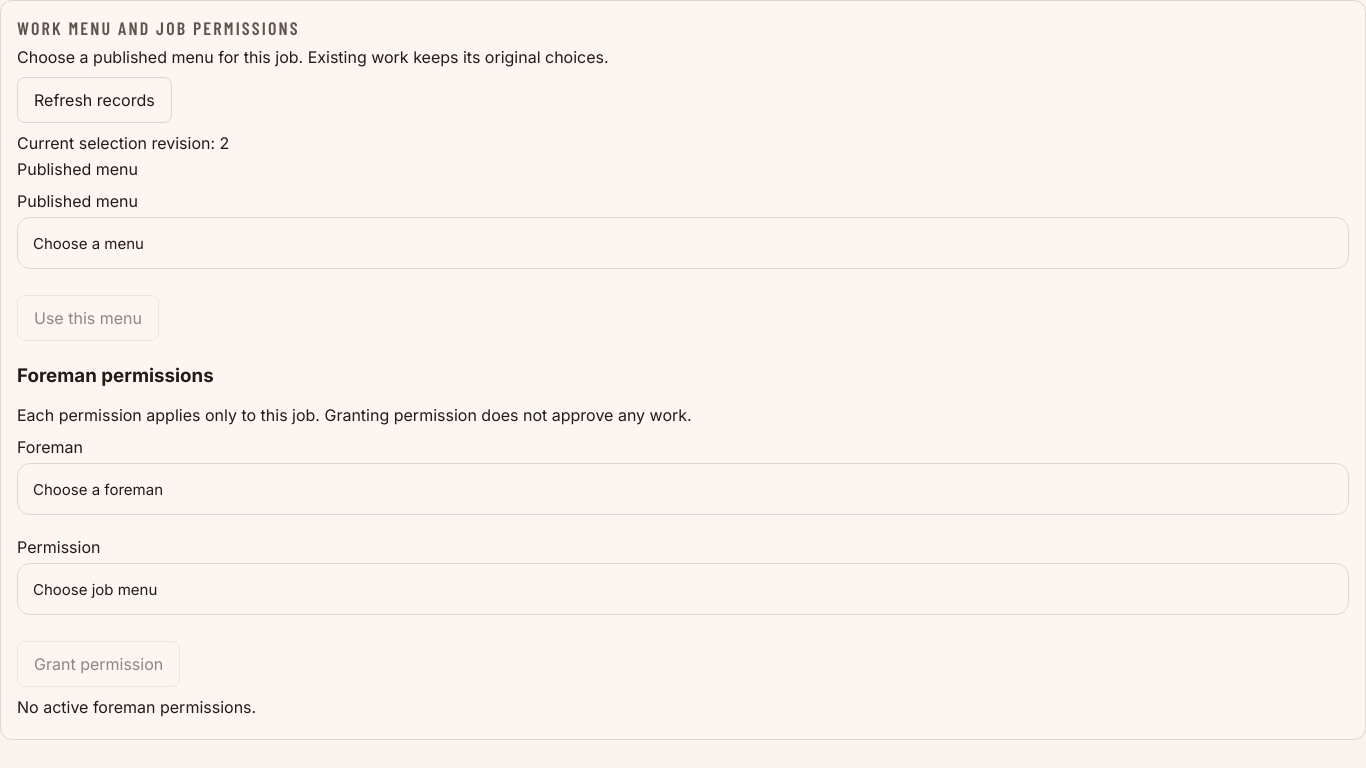
Scenario: exact-job configuration panel › blocks a remounted panel while the original request is in flight and accepts its late valid receipt
This screenshot has width=1366, height=768.
Select "Published menu · v1" in the dropdown labelled "Published menu" at (683, 243), box [17,217,1349,269]
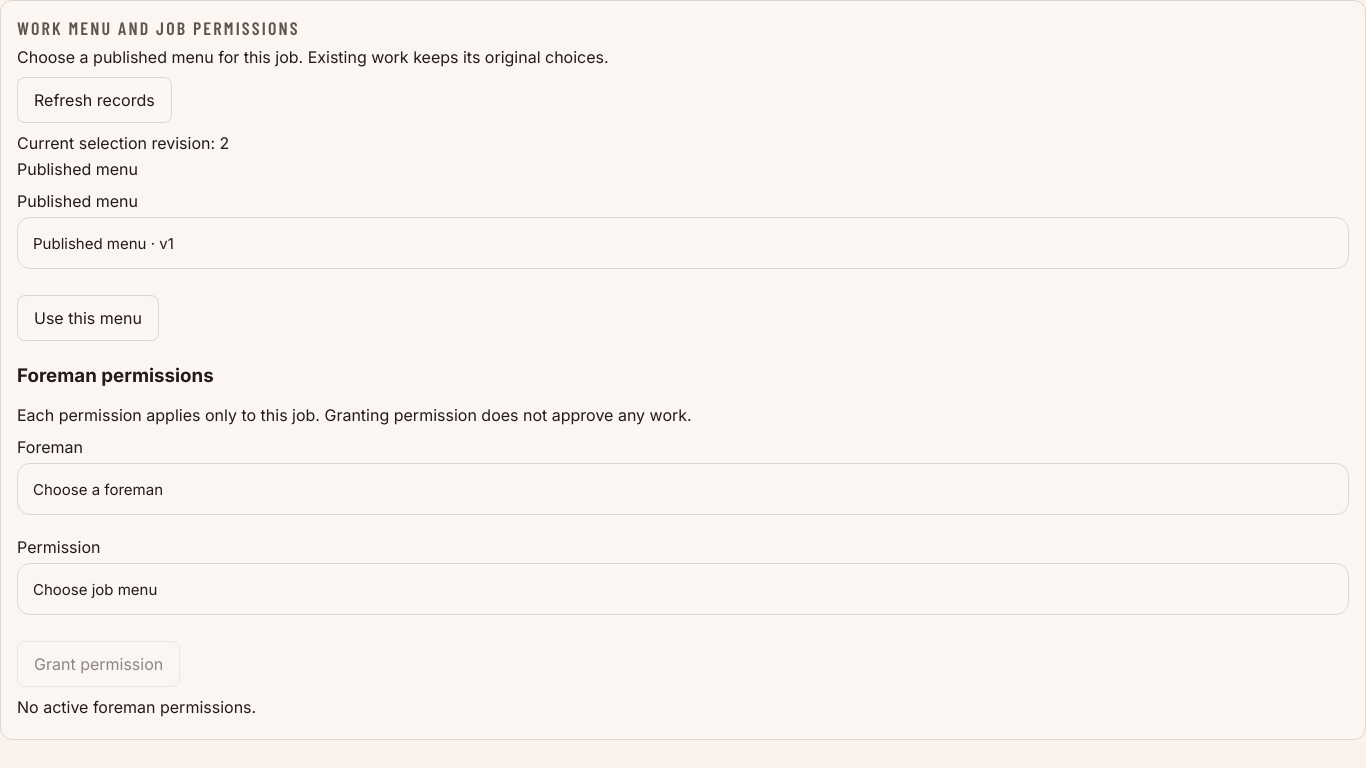
Click the button "Use this menu".
click(88, 318)  # box [17,295,159,341]
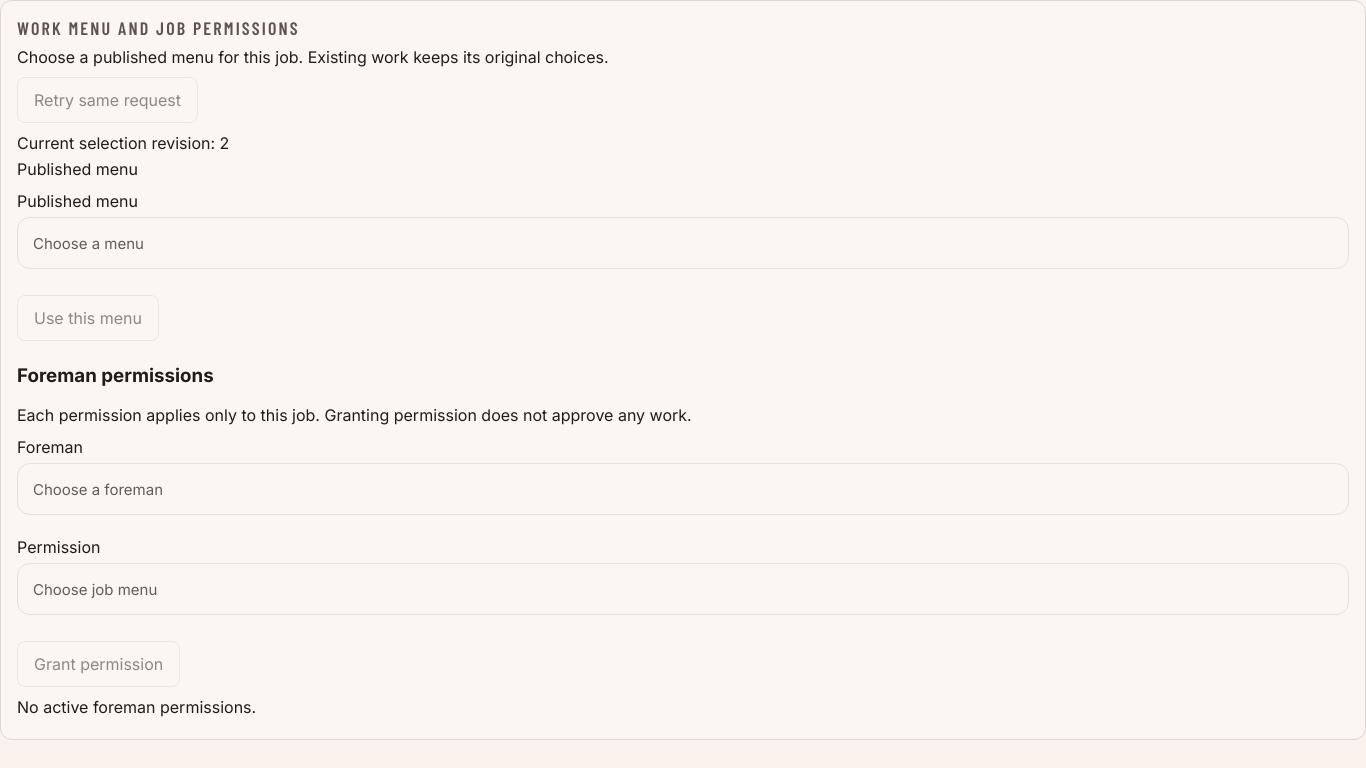
Result: the button "Retry same request" is disabled
Click the button "Retry same request".
click(108, 100)  # box [17,77,198,123]
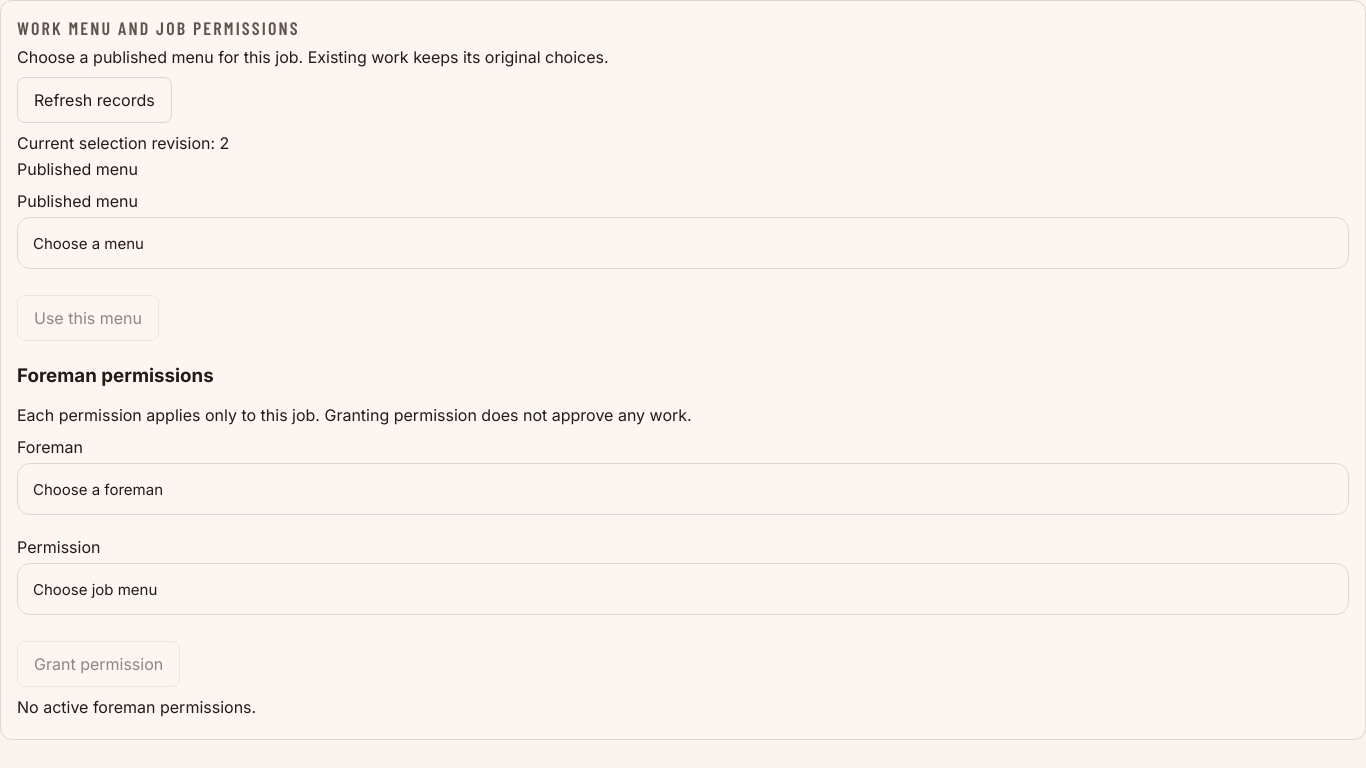
Result: the text "Retry same request" is gone
